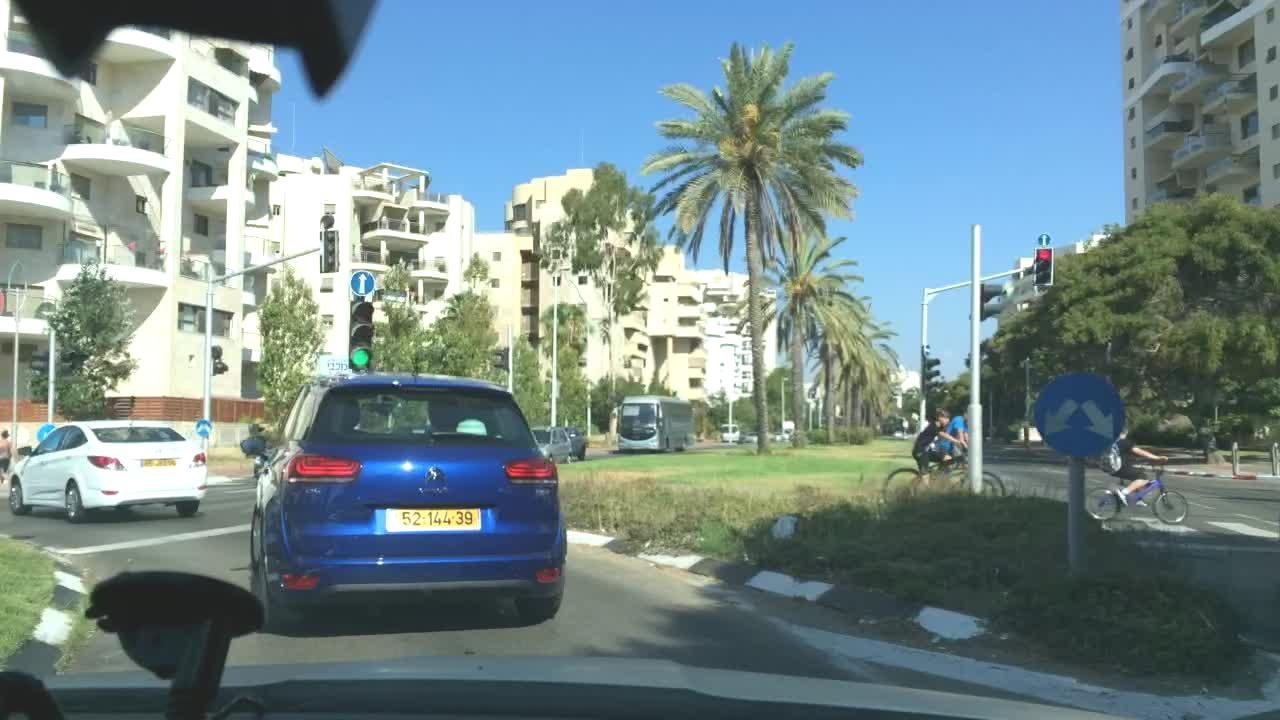Citroen: (422, 462, 451, 487)
